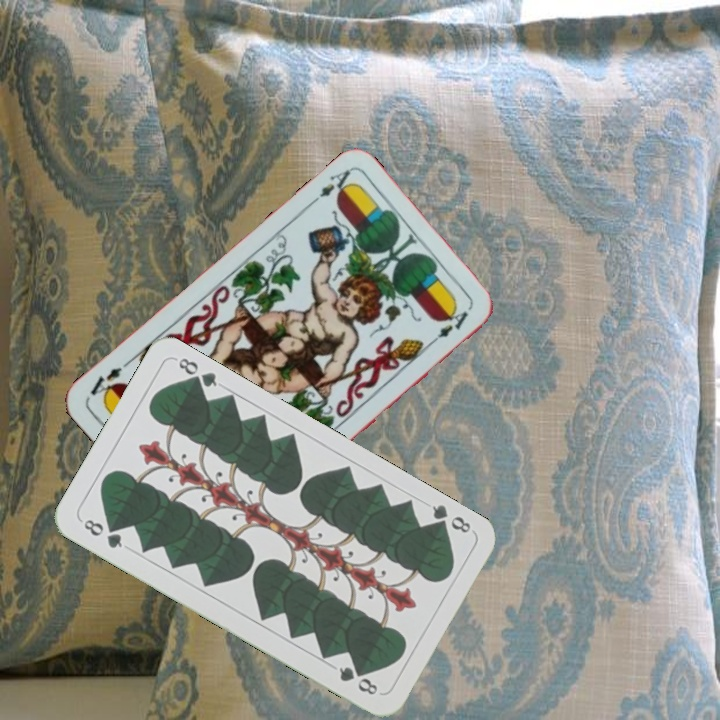EA: (304, 165, 357, 210)
G8: (79, 515, 125, 551), (428, 500, 474, 536)
